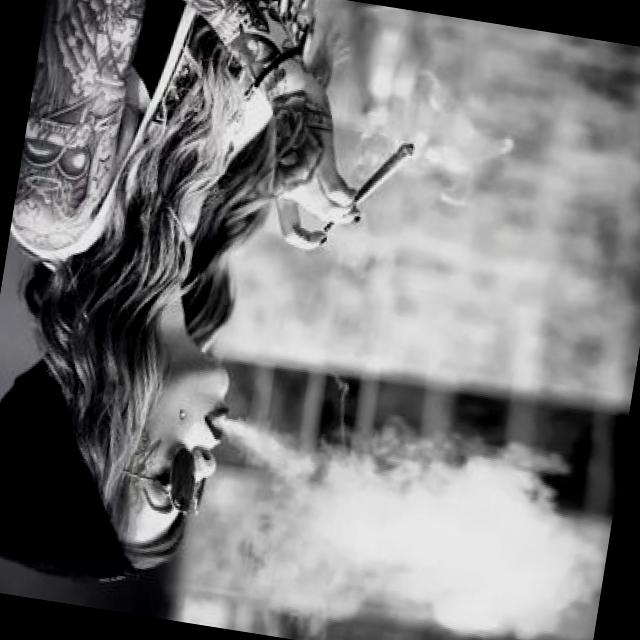cigarette: (318, 130, 416, 249)
